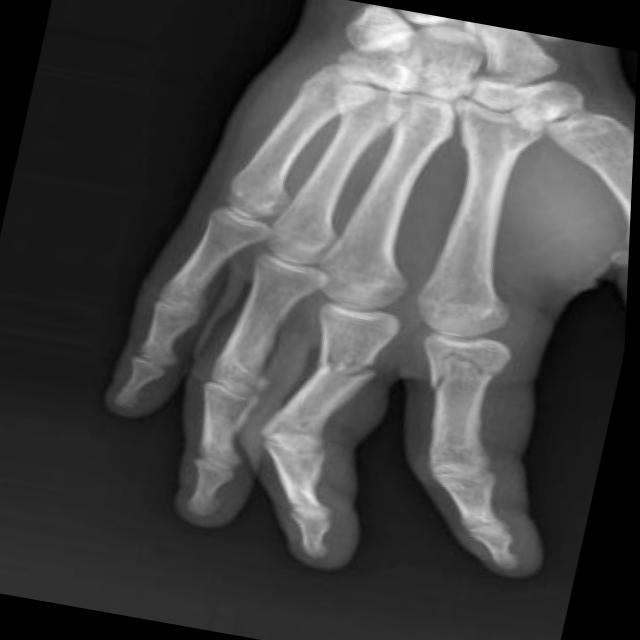fracture: (414, 344, 528, 414), (299, 343, 399, 390)
